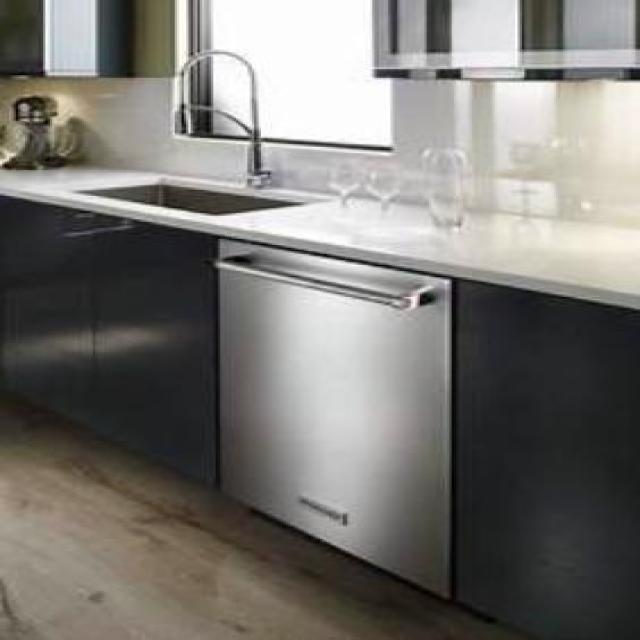dishwasher: (216, 228, 452, 611)
